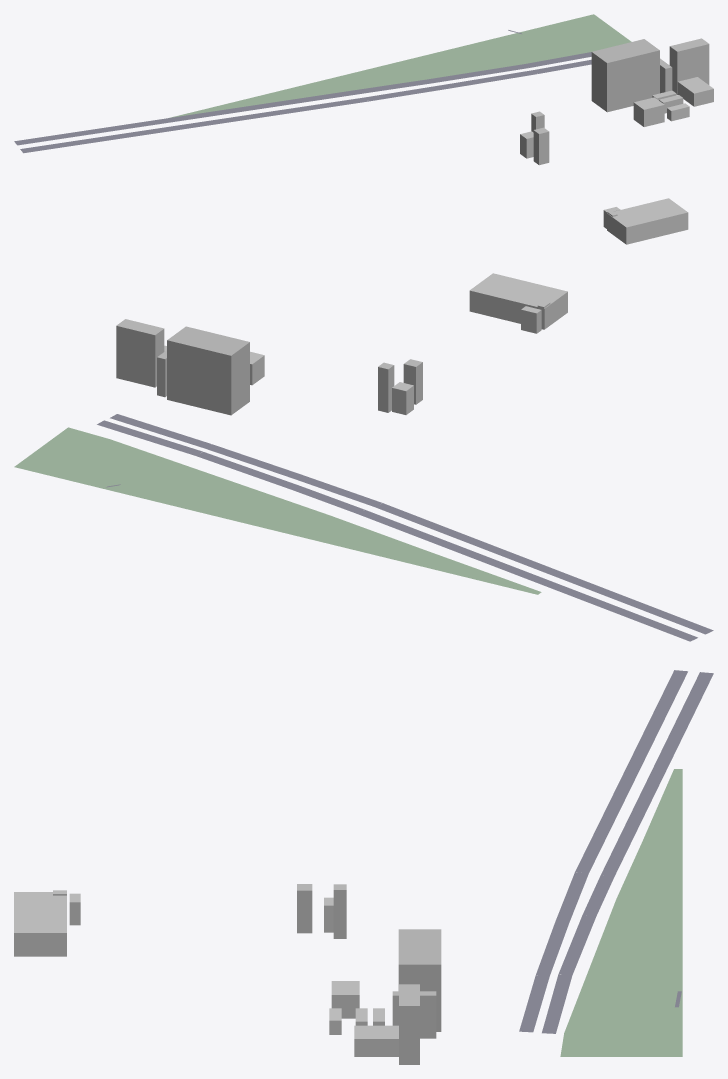
Rendered from 124_81_mid.glb.
3 renders of one model, top to bottom at view 1: azimuth 30°, elevation 25°; view 2: azimuth 150°, elevation 25°; view 3: azimuth 270°, elevation 25°, orthographic. The views are drawn at different scales.
Size of the model in its own units: 678 by 54.51 by 514.
